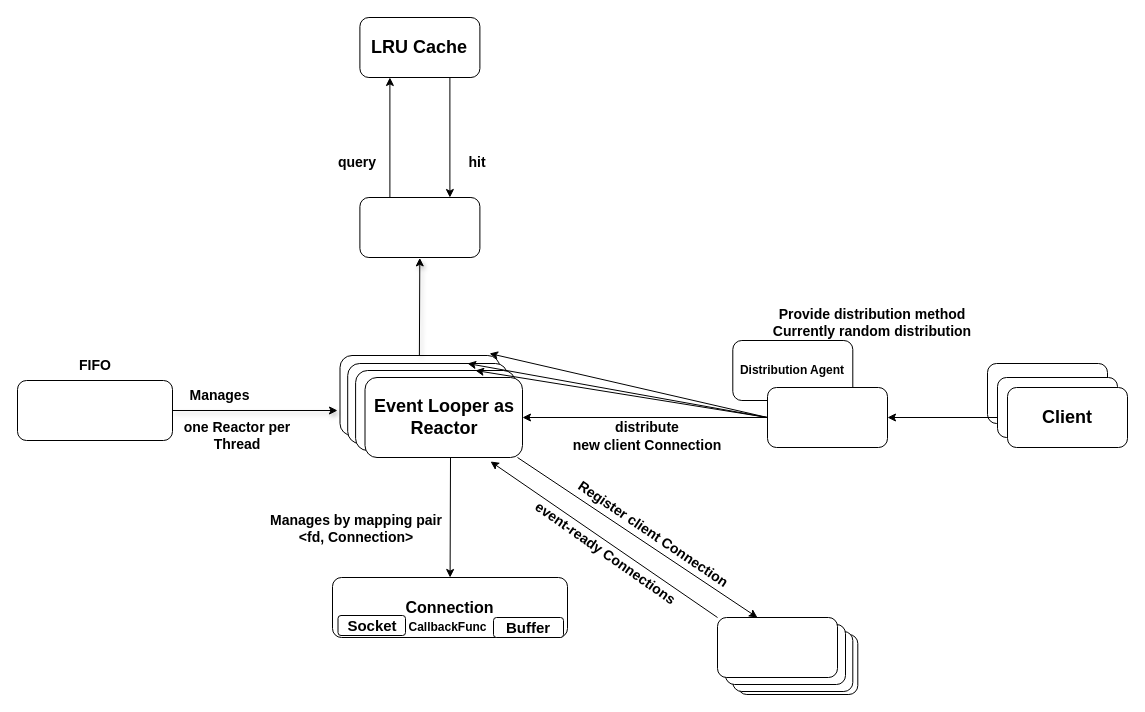
Image size: 1145x712. Some labels were removed from this diagram. Each missing label, with the centre of its shape:
Acceptor: point 827,417
execute connection callback: point 419,227
Polling handler: point 777,647
ThreadPool: point 94,410
